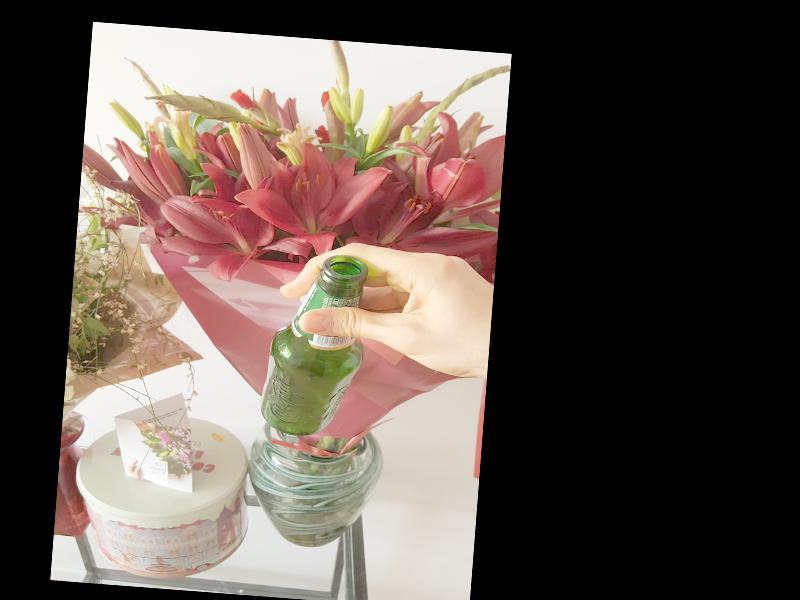Beer: (257, 251, 370, 439)
